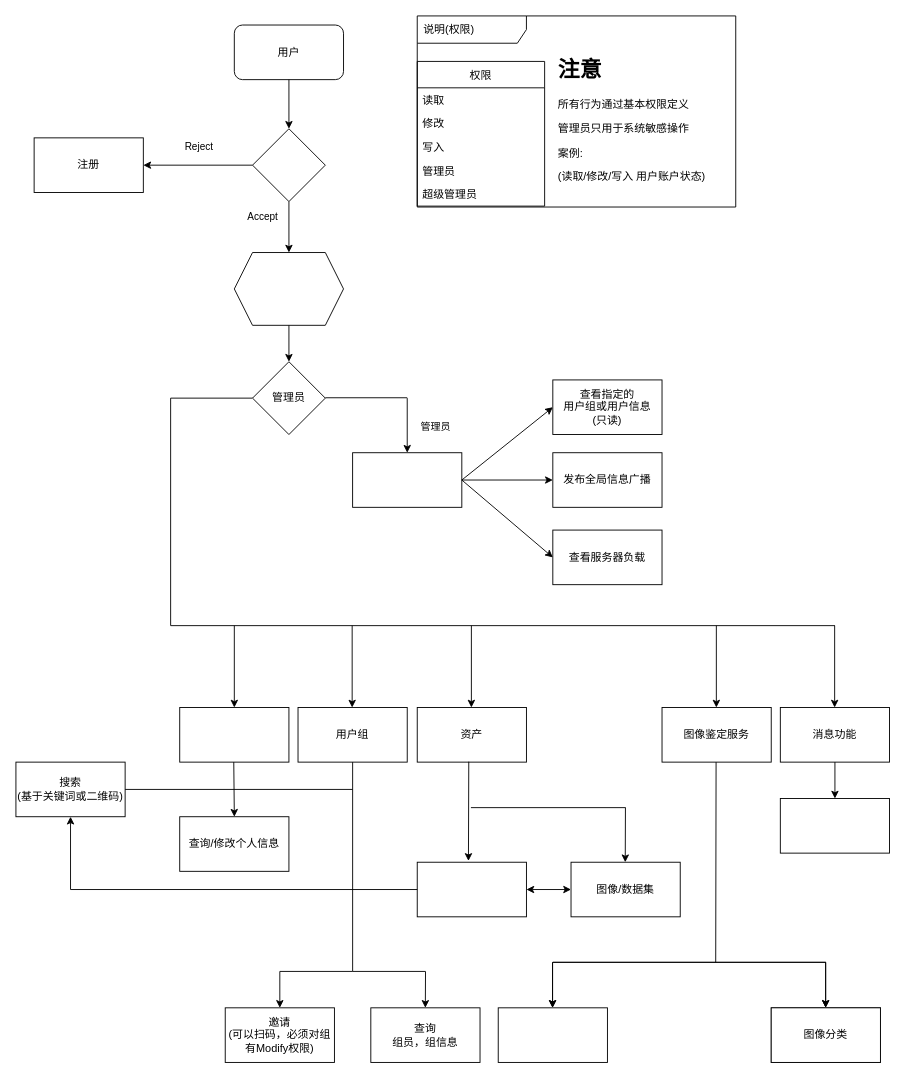
Image size: 905x1086. Some labels were removed from this diagram. The centre of each missing label's shape, as x and y in pixels:
"个人信息" belongs at pixel 234 734.
"收发消息 根据UID" belongs at pixel 834 825.
"登录" belongs at pixel 288 165.
"神经网络模型" belongs at pixel 471 889.
"获取用户角色" belongs at pixel 288 288.
"额外显示视图" belongs at pixel 407 479.
"风格鉴定" belongs at pixel 552 1034.
